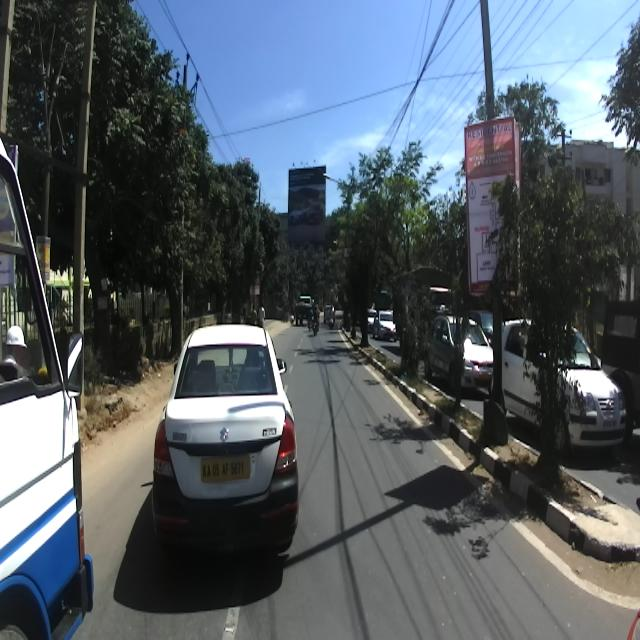car ahead at: (146, 319, 306, 550)
